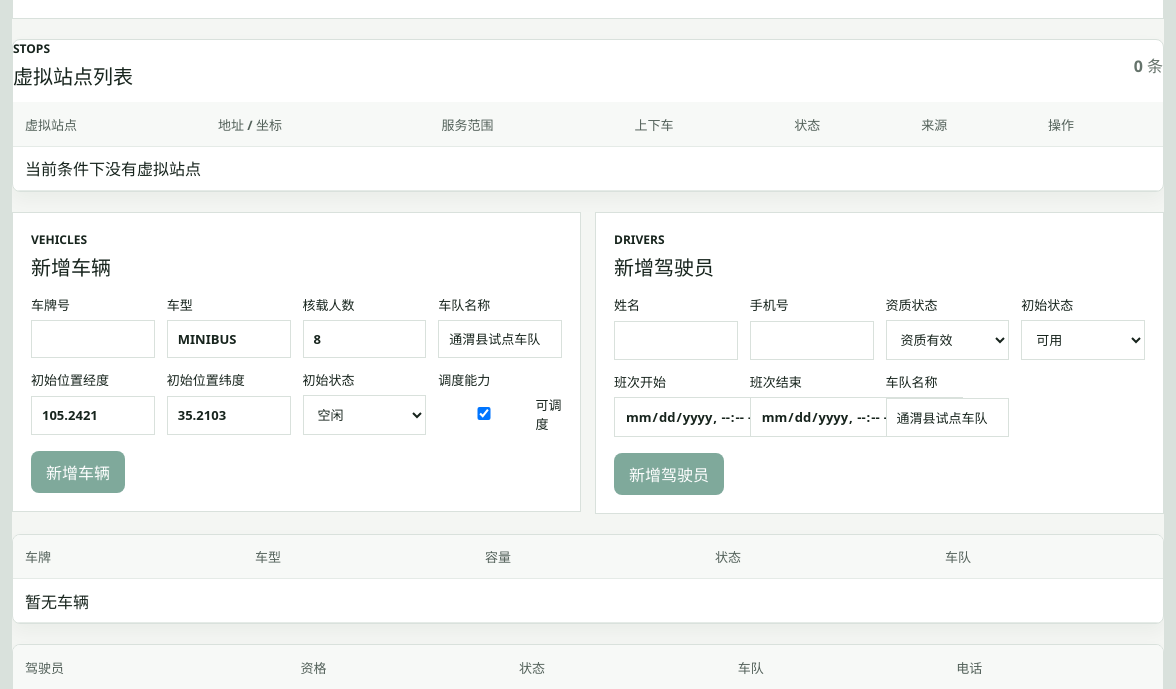
Test: ResourcesPage › creates a vehicle and driver from the resource page forms
(page scrolled)
Expected: the button "新增车辆" is shown, x1=31 y1=451 x2=125 y2=493
Type "甘J-DRT01" into the field labelled "车牌号" at (93, 339), box x1=31 y1=320 x2=155 y2=358
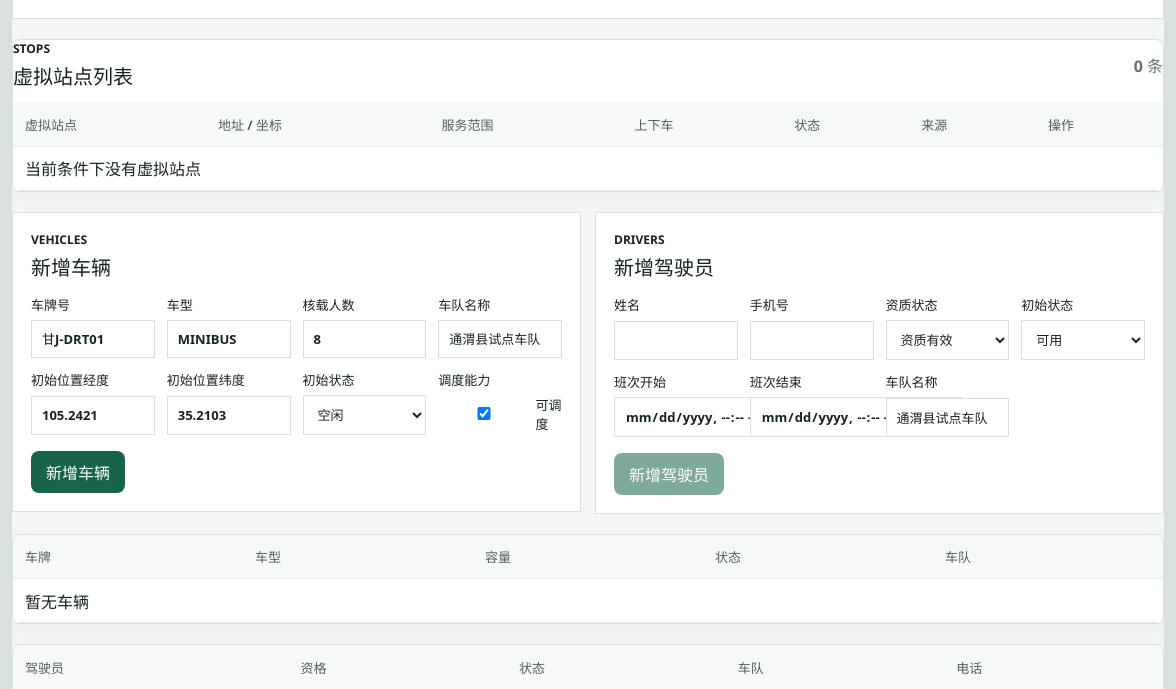
Click the button "新增车辆" at (78, 472), box x1=31 y1=451 x2=125 y2=493
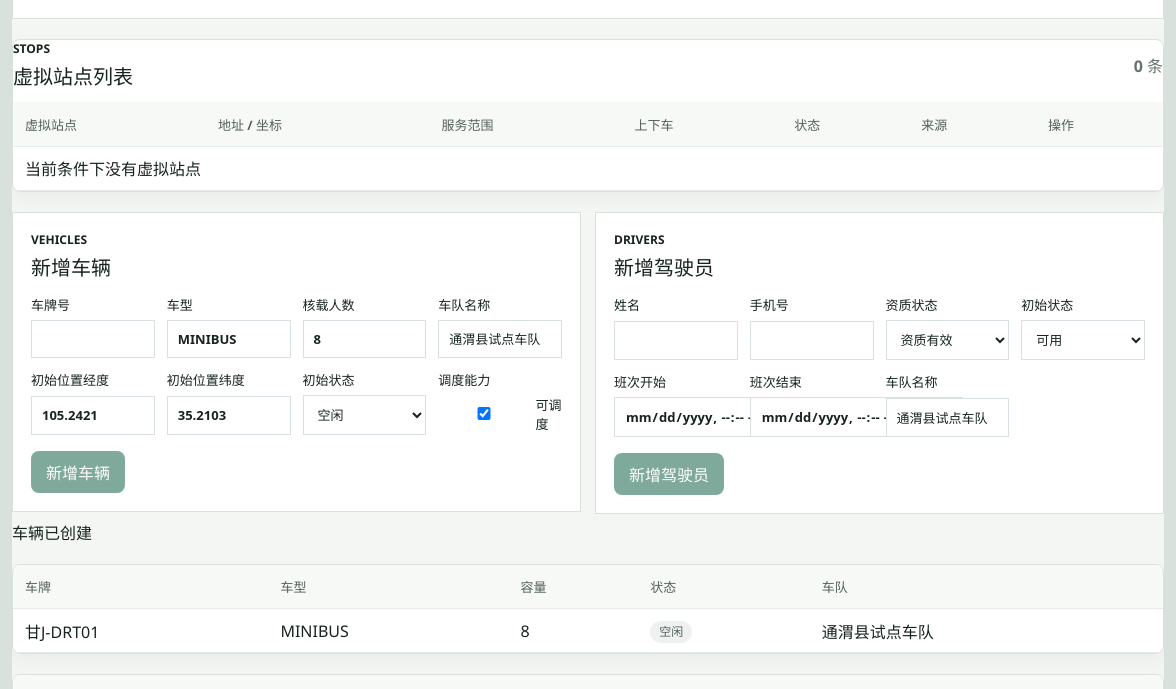
Result: the text "车辆已创建" is shown at x1=12 y1=522 x2=92 y2=544
Type "张师傅" into the field labelled "姓名" at (676, 340), box x1=614 y1=321 x2=738 y2=360
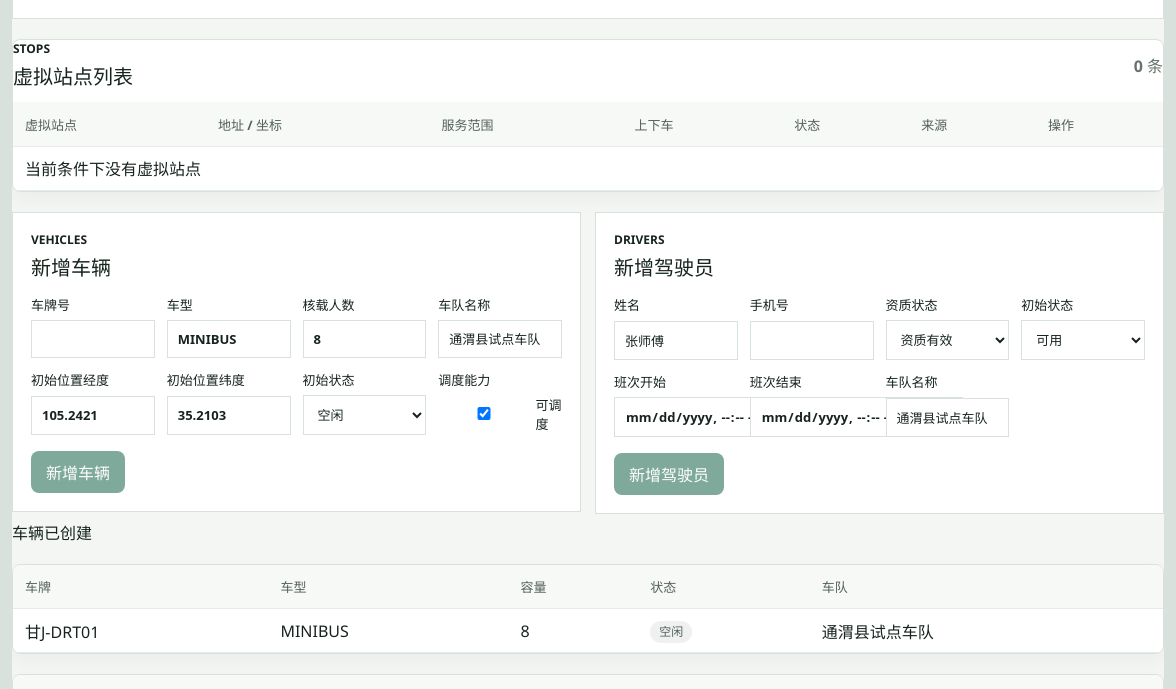
Type "13900000001" into the field labelled "手机号" at (812, 340), box x1=750 y1=321 x2=874 y2=360
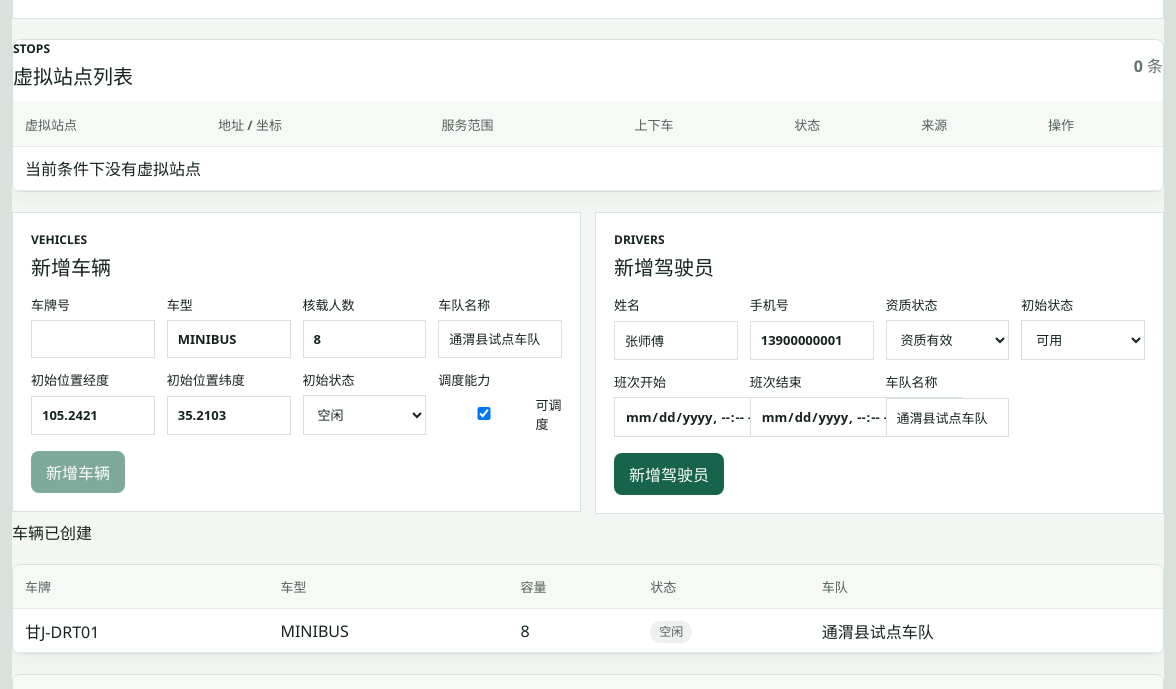
Click the button "新增驾驶员" at (669, 474), box x1=614 y1=453 x2=724 y2=495
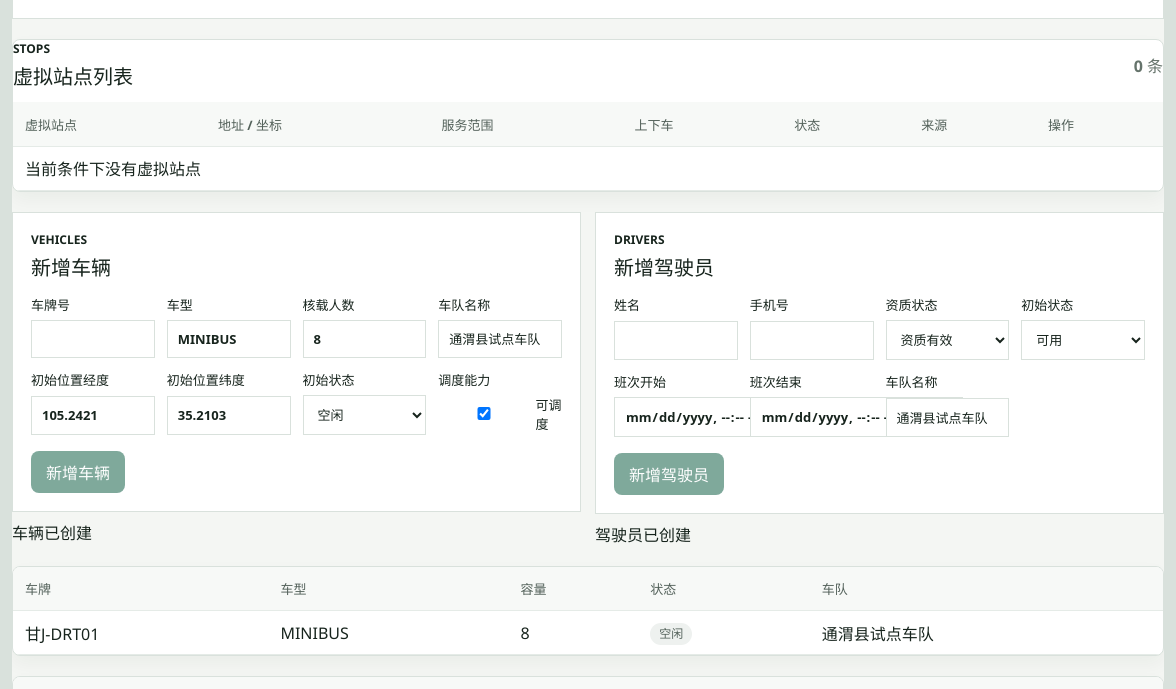
Result: the text "驾驶员已创建" is shown at x1=595 y1=524 x2=691 y2=546
